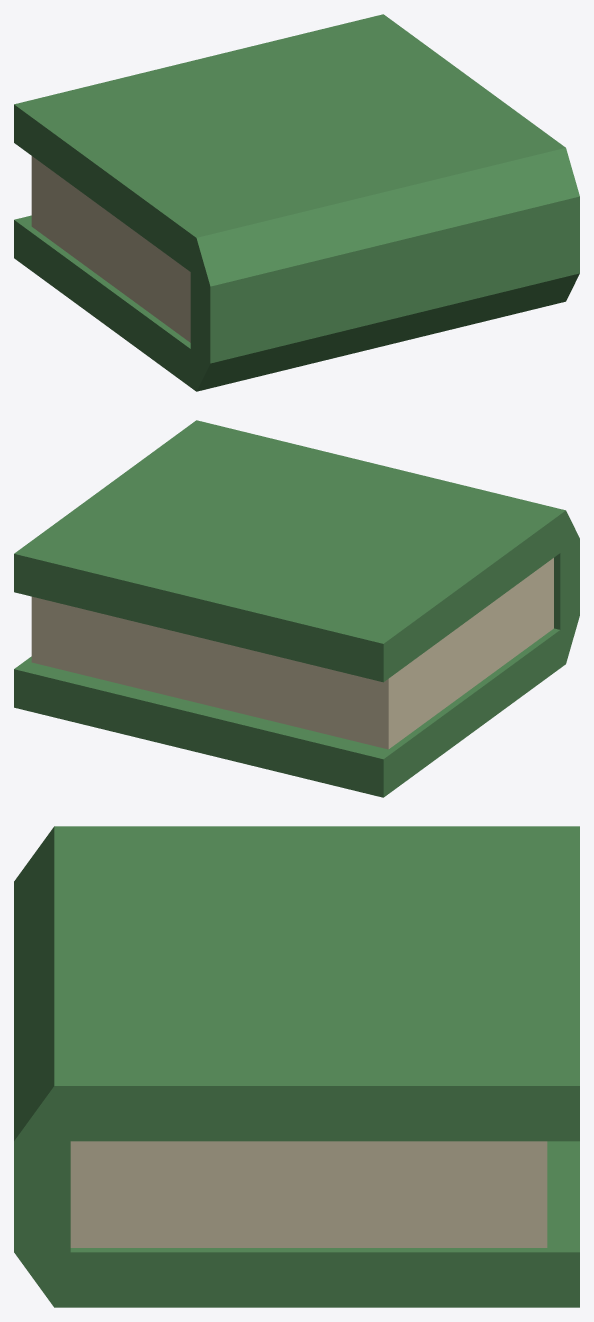
File: msh_book_03.fbx
3 renders of one model, top to bottom at view 1: azimuth 30°, elevation 25°; view 2: azimuth 150°, elevation 25°; view 3: azimuth 270°, elevation 25°, orthographic. The views are drawn at different scales.
Visible parts, largest first — view 1: msh_book_03; view 2: msh_book_03; view 3: msh_book_03.
Boxes of the visible parts, left/top/right/bottom form: msh_book_03: left=14, top=14, right=579, bottom=391; msh_book_03: left=14, top=420, right=579, bottom=797; msh_book_03: left=14, top=826, right=579, bottom=1307.
Bounding box in the file's own units: 33.79 × 13.44 × 31.12.
